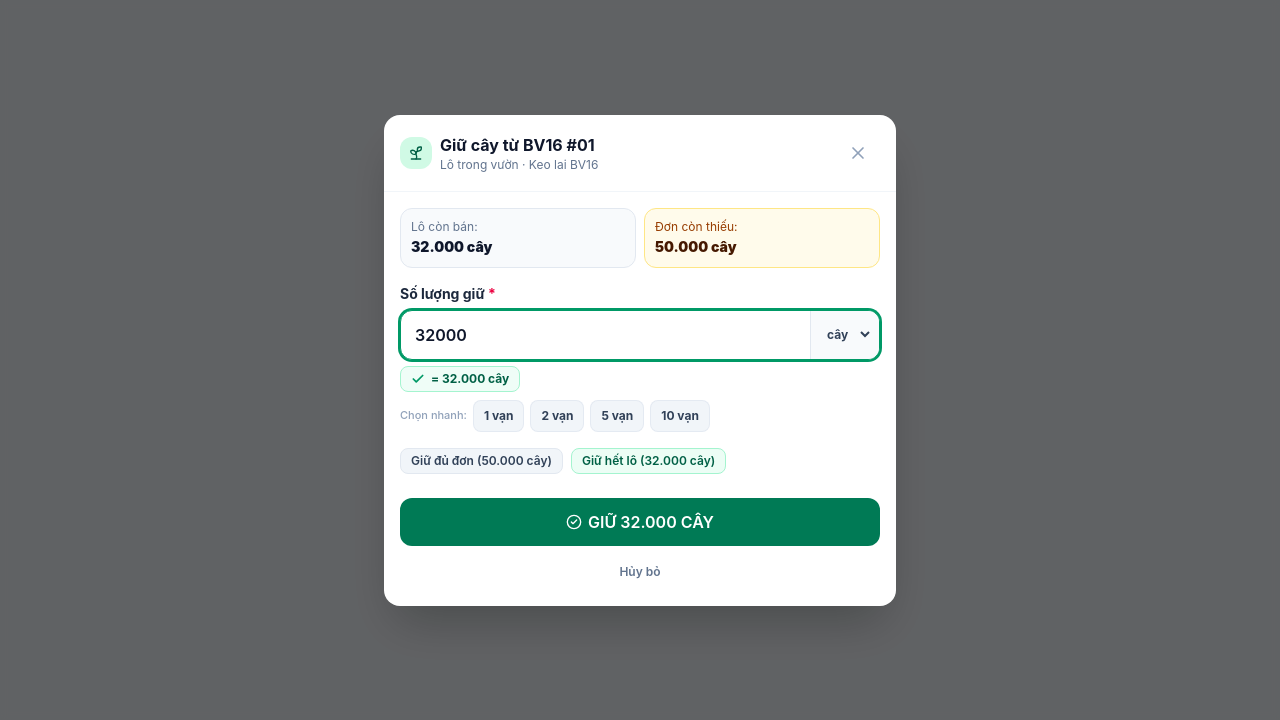
Scenario: ReserveQuantityModal quantity units › previews the order maximum truthfully and still blocks quantities exceeding the batch
Click the button "2 vạn". click: (557, 416)
box: left=530, top=400, right=584, bottom=432
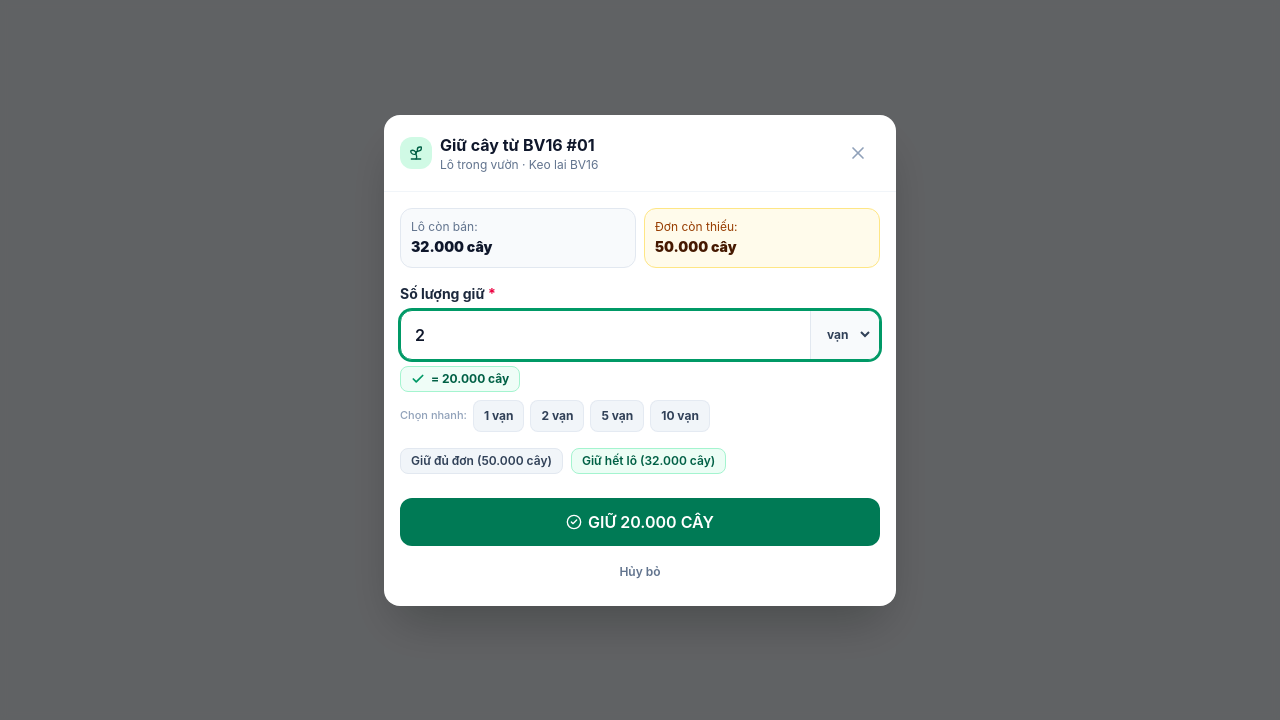
Click the button "Giữ đủ đơn (50.000 cây)". click: (481, 460)
box: left=400, top=448, right=563, bottom=474
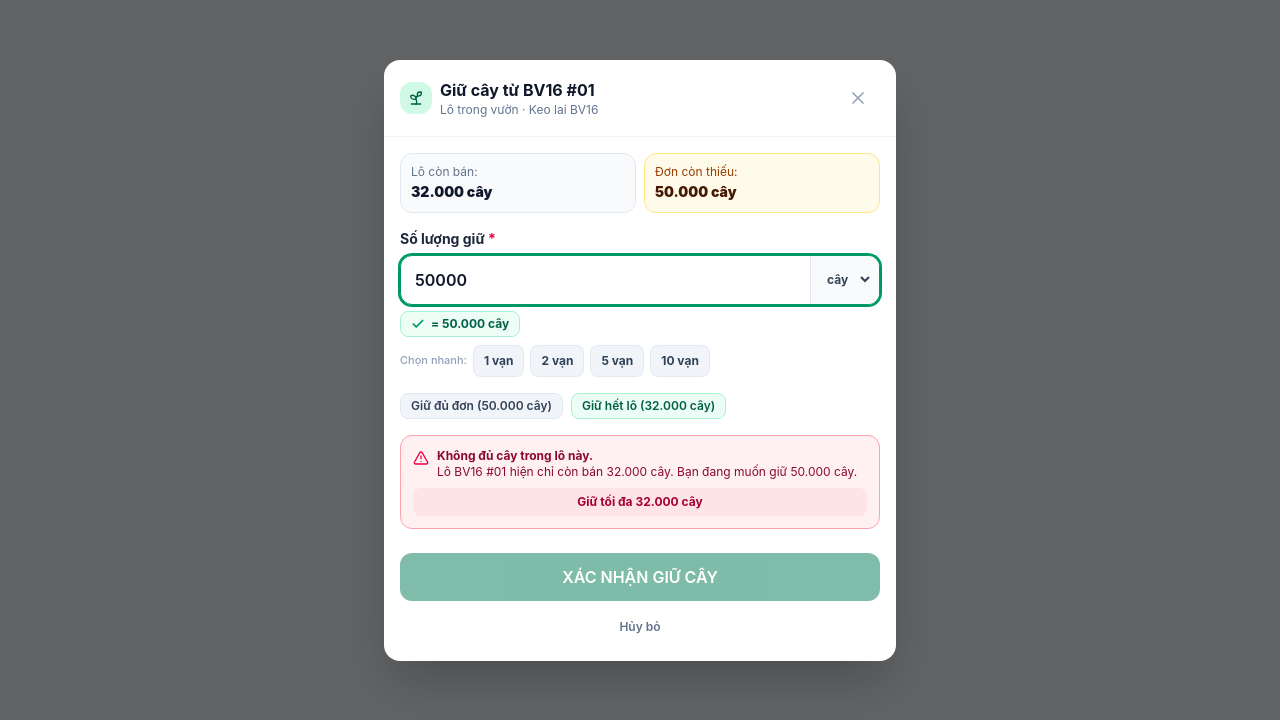
Expected: the text "= 50.000 cây" is shown, left=431, top=316, right=509, bottom=332
Expected: the field labelled "Số lượng giữ *" holds "50000", left=401, top=256, right=810, bottom=304
Expected: the dropdown named "Đơn vị tính số lượng" shows "cây", left=815, top=263, right=873, bottom=296
